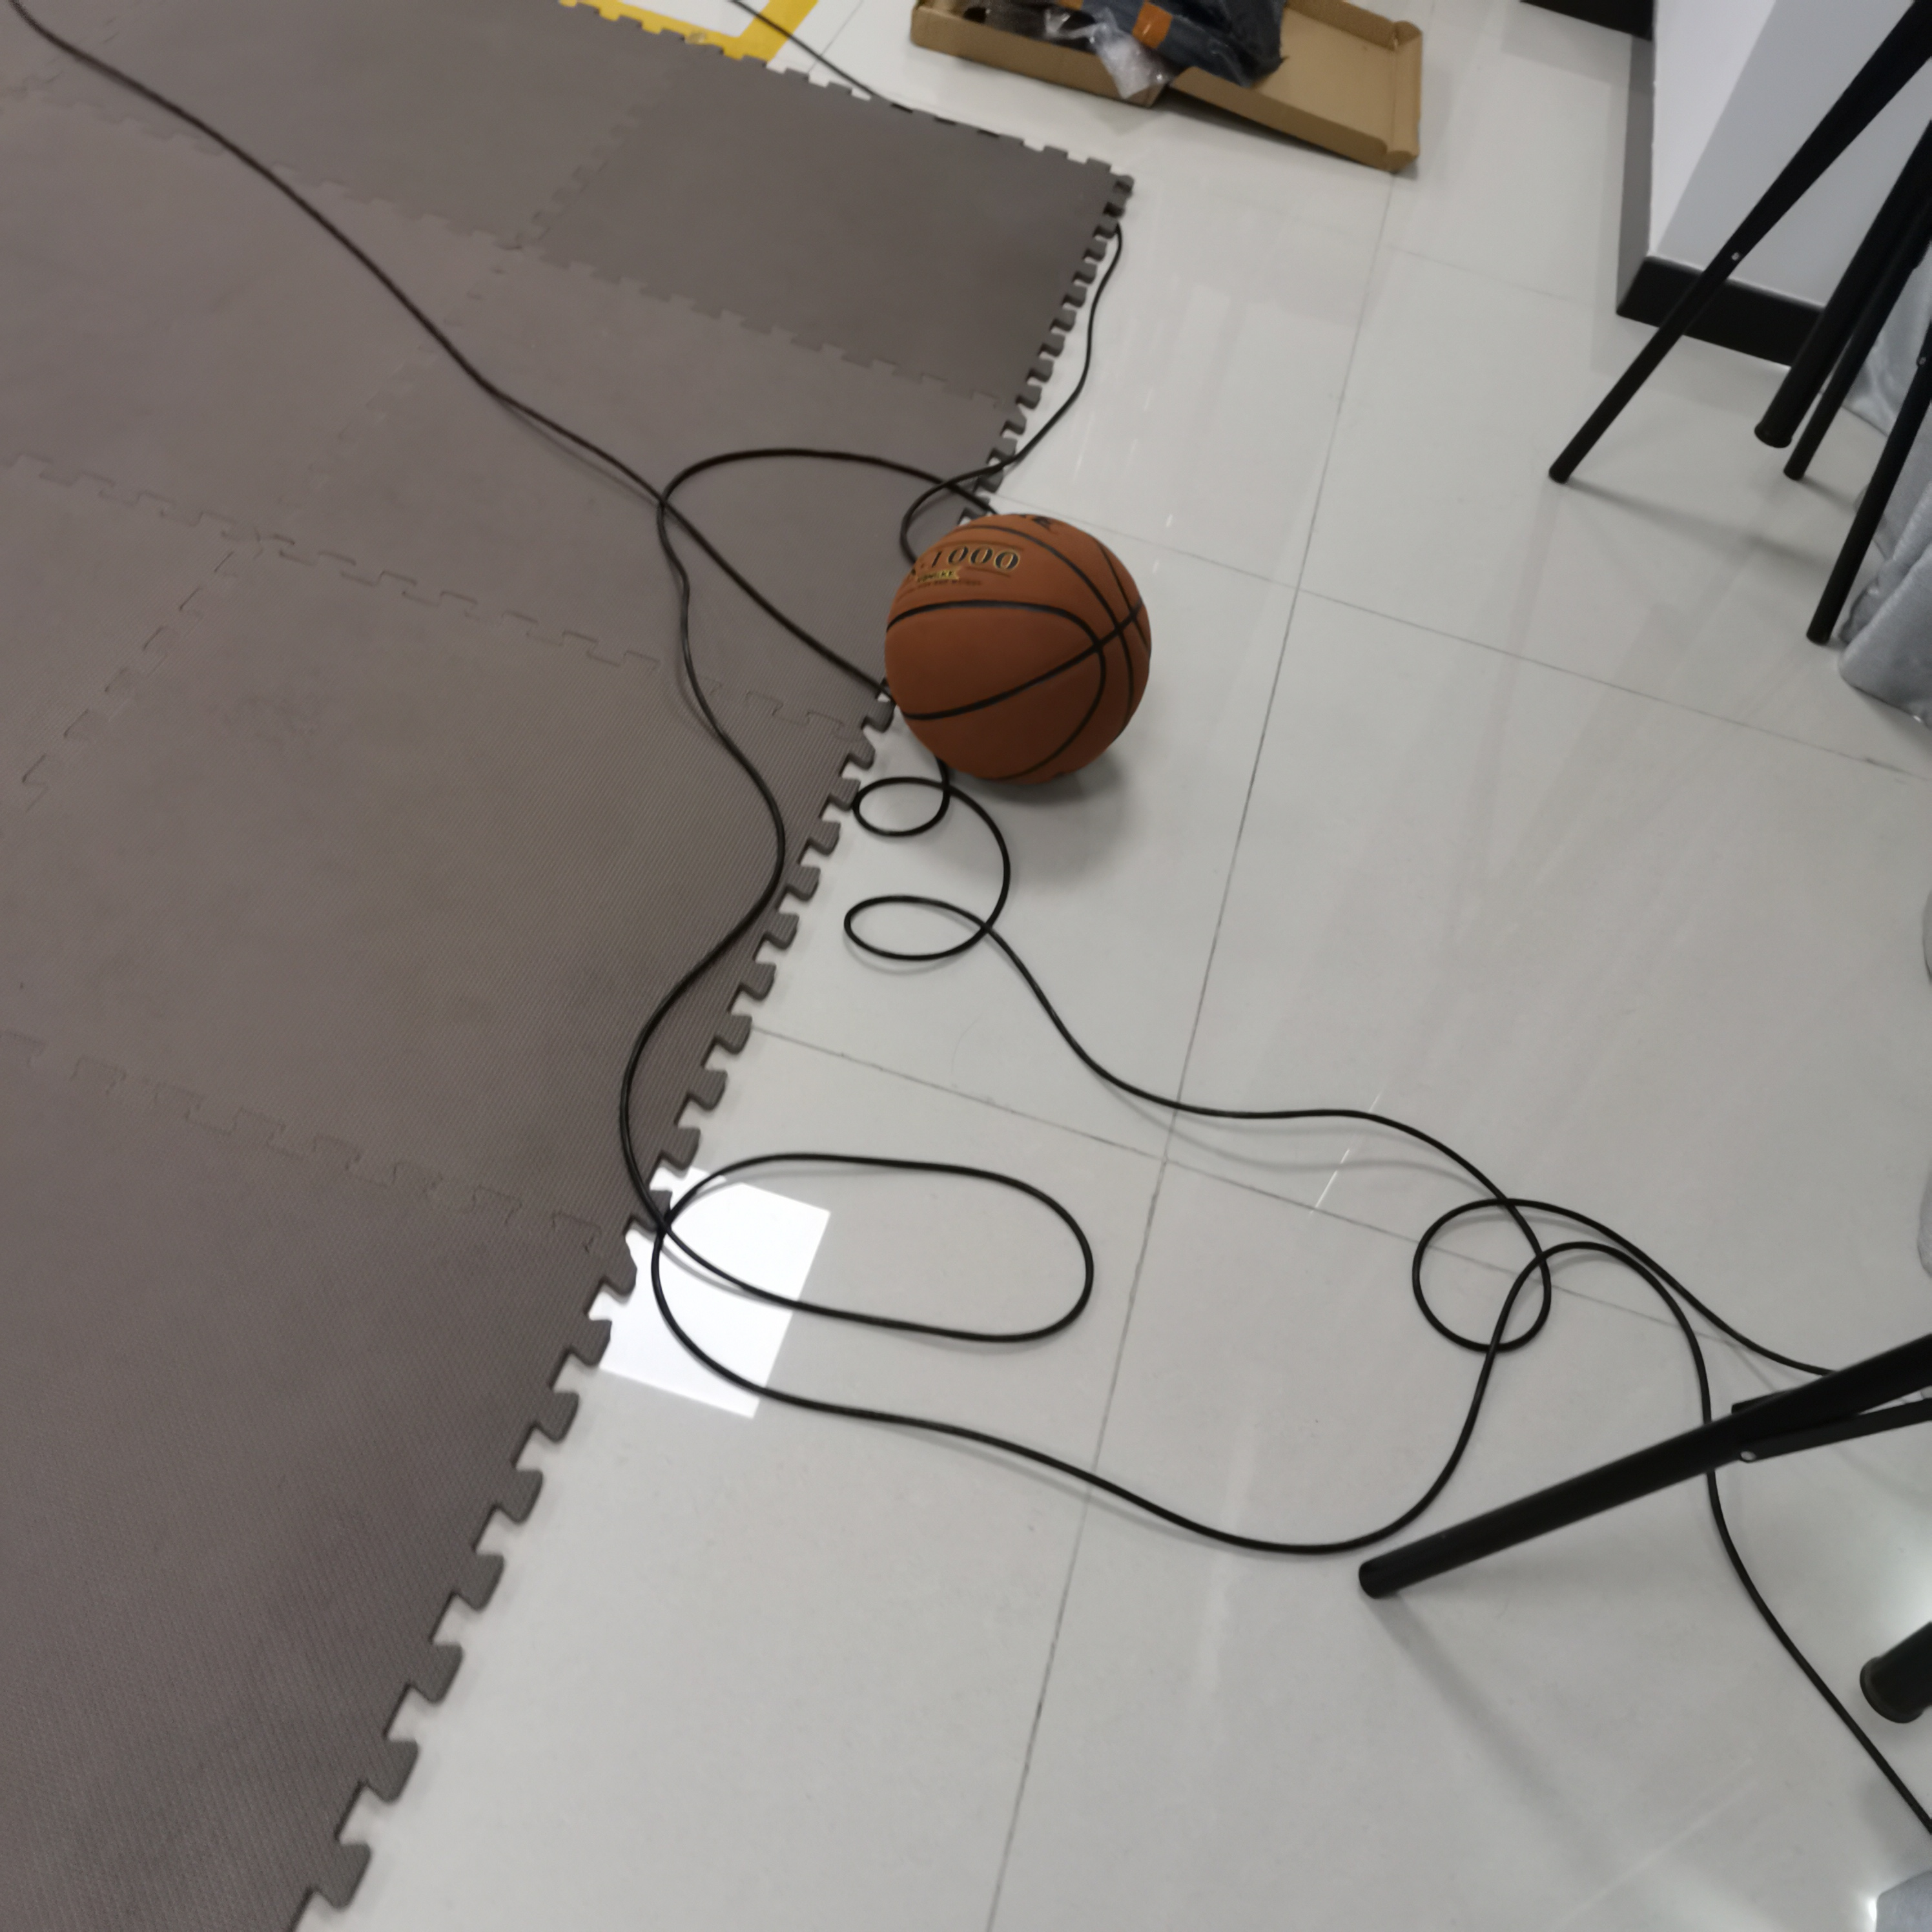basketball: (885, 513, 1154, 789)
